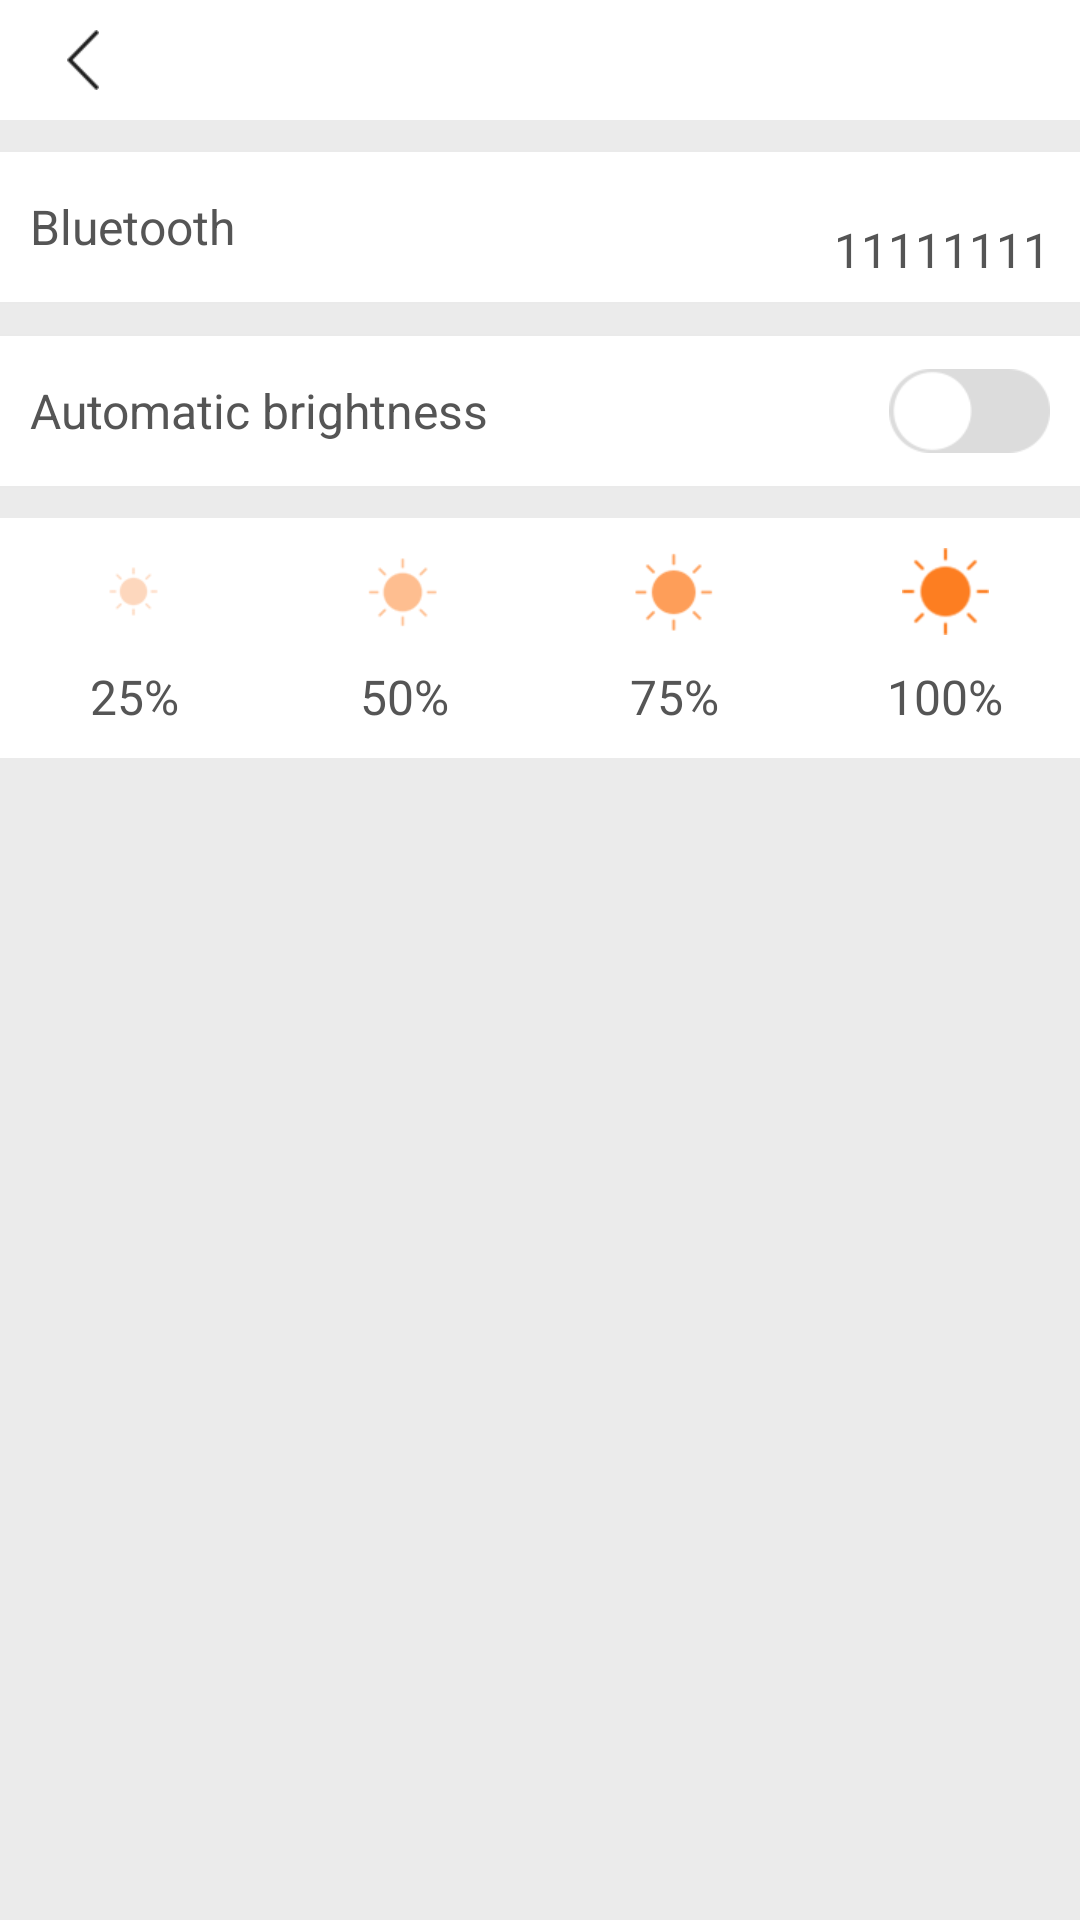

Icon bounding boxes for this 1080 × 1920 phone screenshot, format (x1, y1, x2, y2):
back: (67, 30, 99, 90)
off: (889, 369, 1050, 453)
